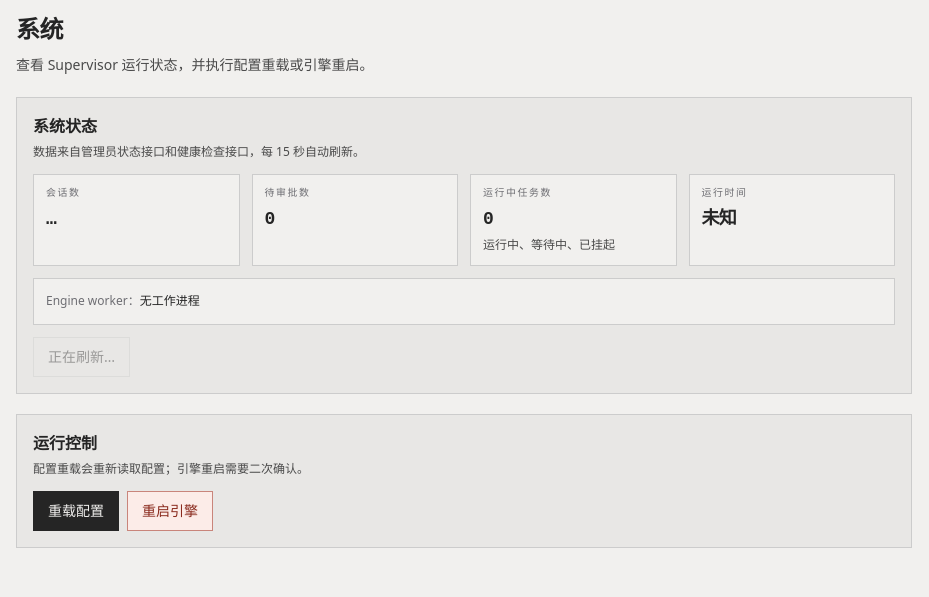
Scenario: 被拒的重启在界面上 › 系统设置页排上了就不提原因
Click the button "重启引擎": (170, 511) [127, 491, 213, 531]
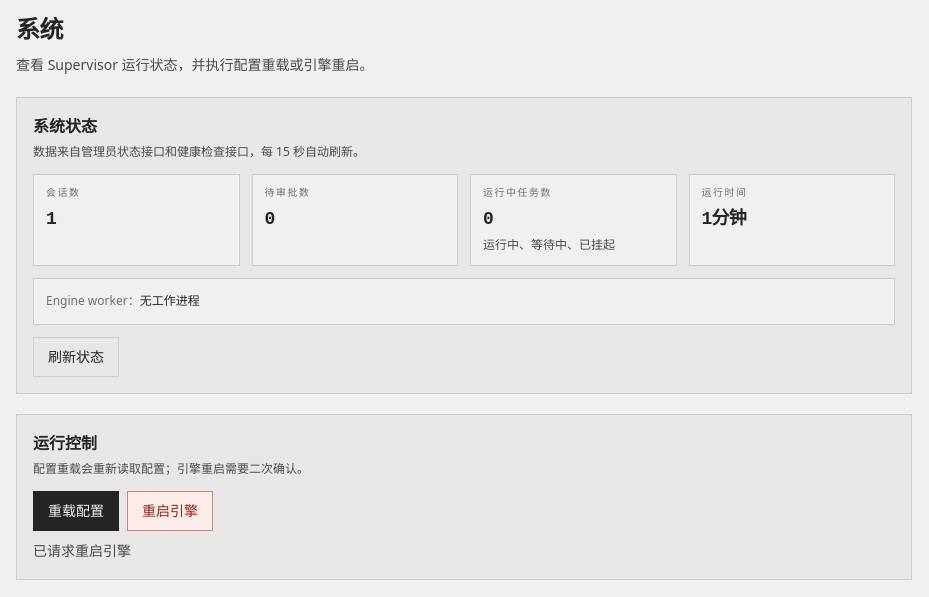
Check: the message reads "已请求重启引擎", box [33, 541, 131, 560]
